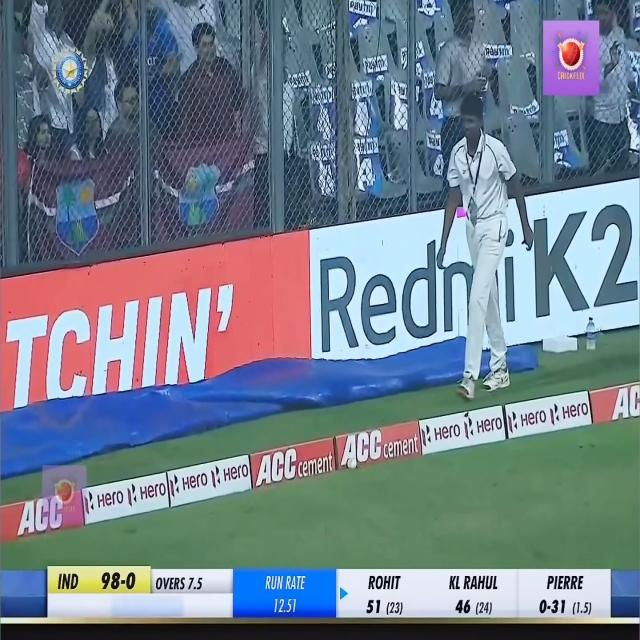partially_visible: (483, 41, 518, 64), (347, 0, 379, 23), (362, 55, 388, 74)
